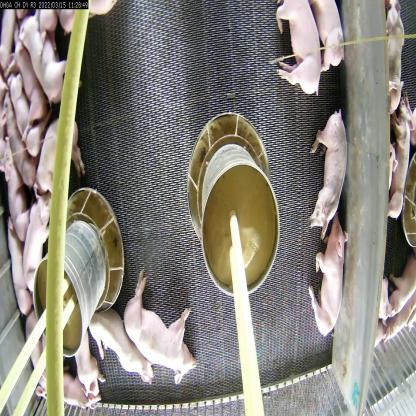Pig: (122, 281, 196, 384), (33, 109, 102, 209), (265, 0, 325, 108), (301, 116, 350, 238), (82, 309, 156, 381), (305, 218, 346, 347), (18, 15, 74, 108), (0, 82, 32, 206), (23, 204, 56, 284)
